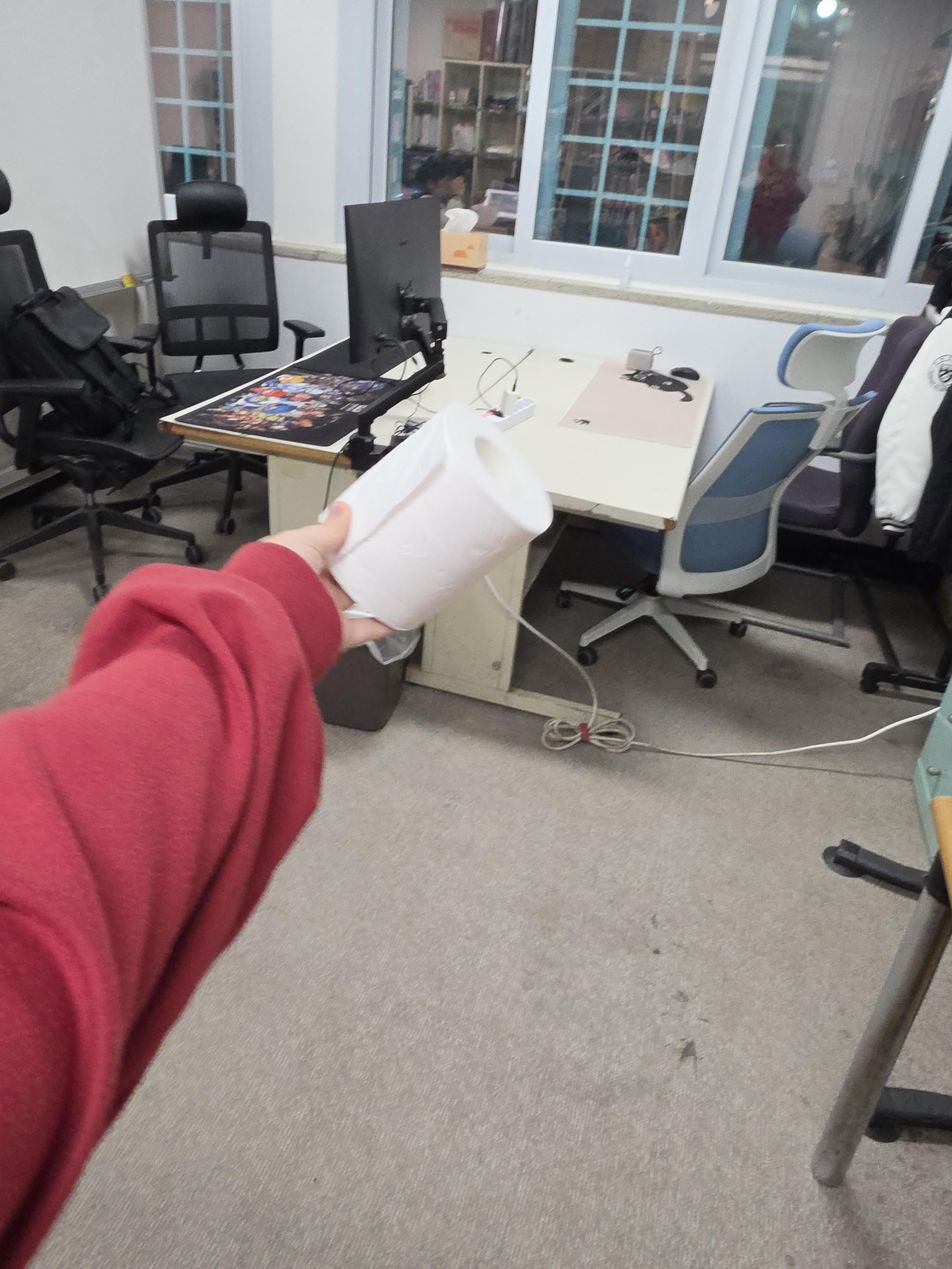tissue: (319, 404, 554, 632), (440, 206, 488, 271)
